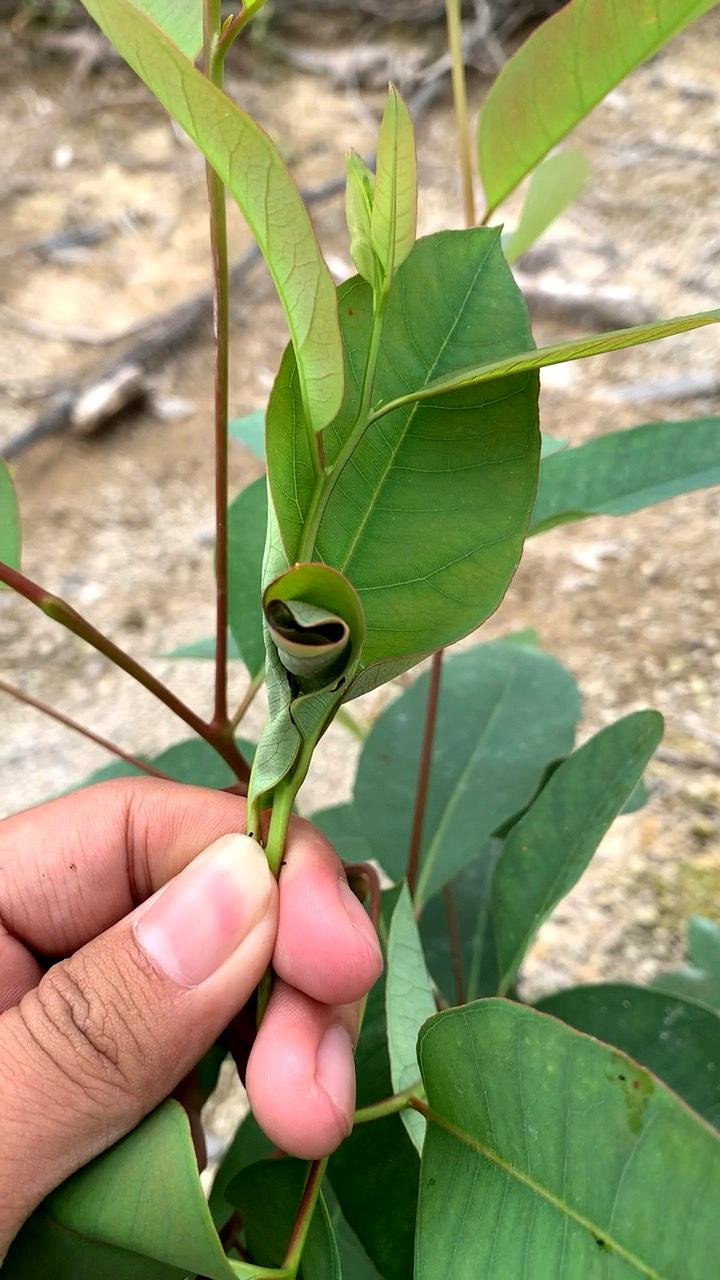Leaf Roller - Leaf: (219, 546, 441, 750)
